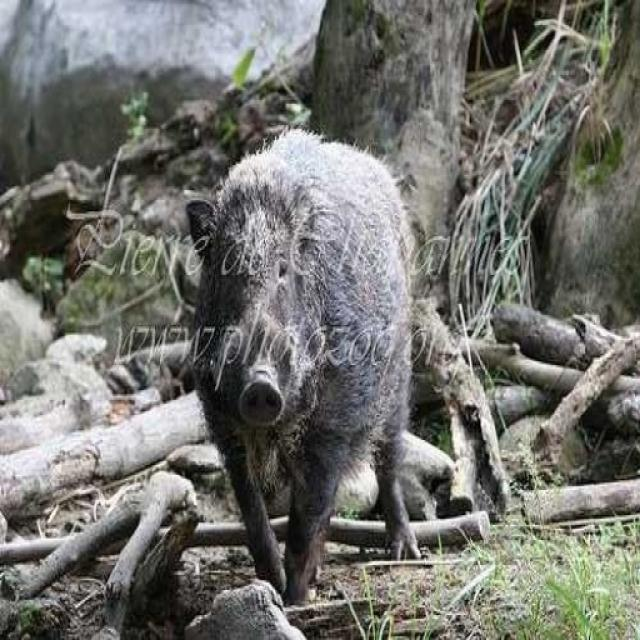pig: (193, 102, 532, 614)
